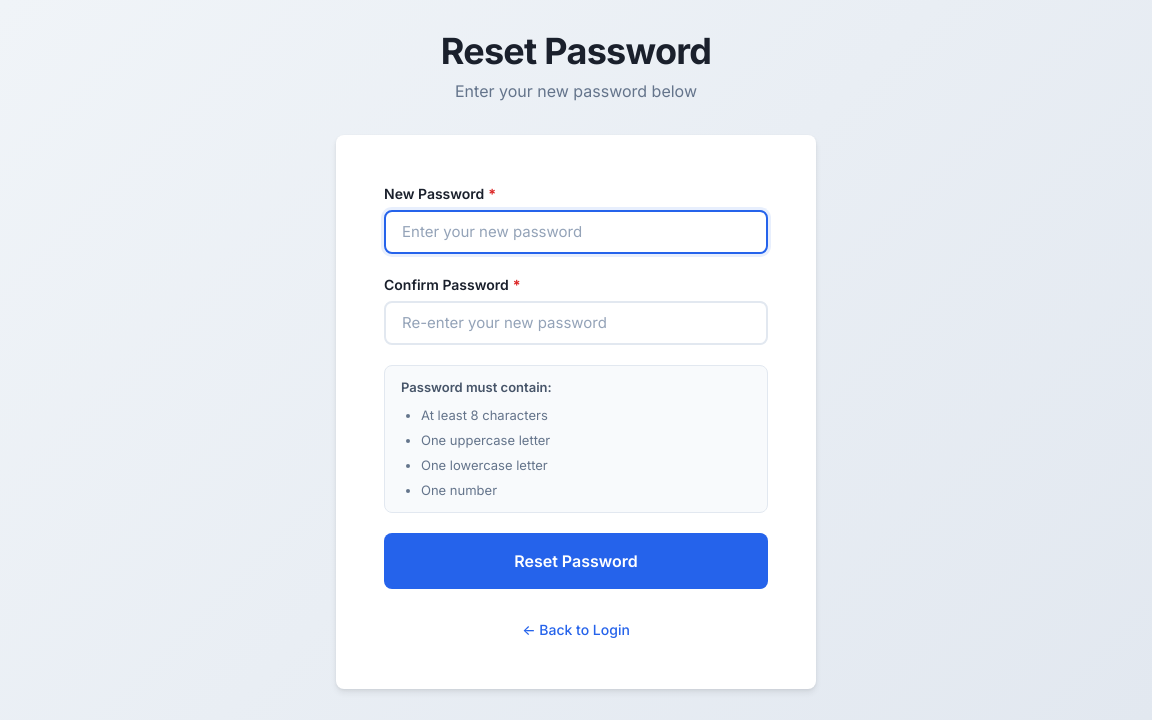
Test: ResetPasswordPage Component › Form Validation › shows error when password is empty
Click the button "Reset Password". click: (576, 561)
box: [384, 533, 768, 589]
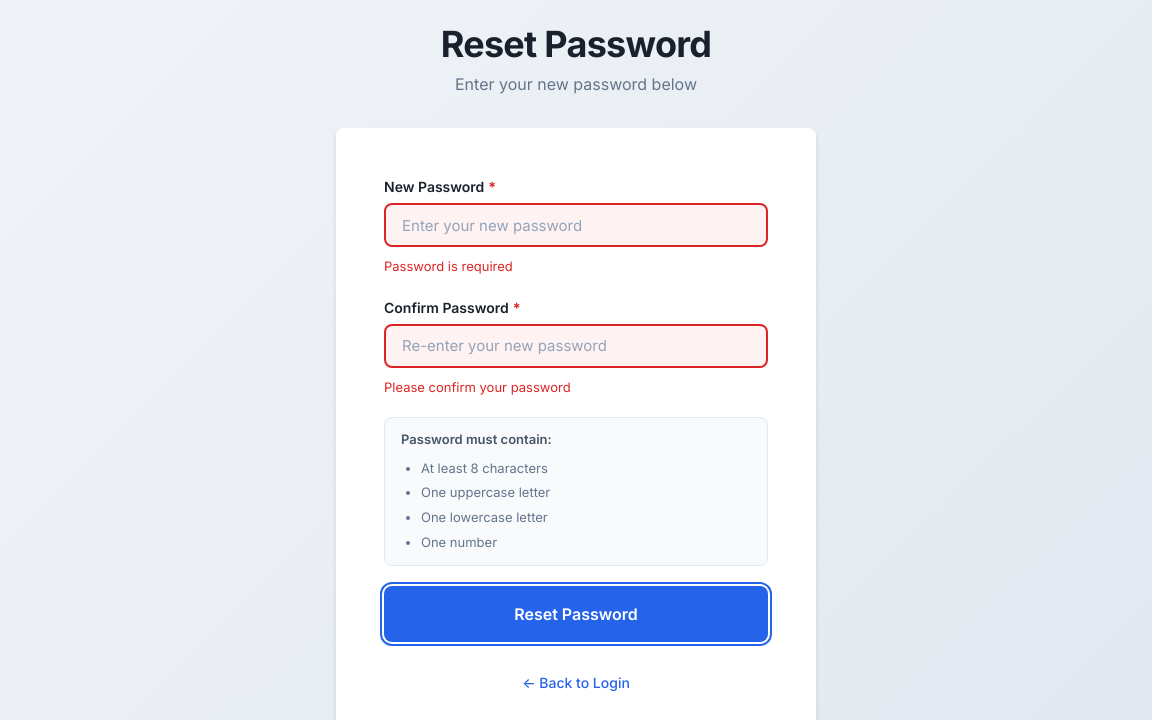
Check: the text "Password is required" is shown, box [384, 258, 513, 274]
